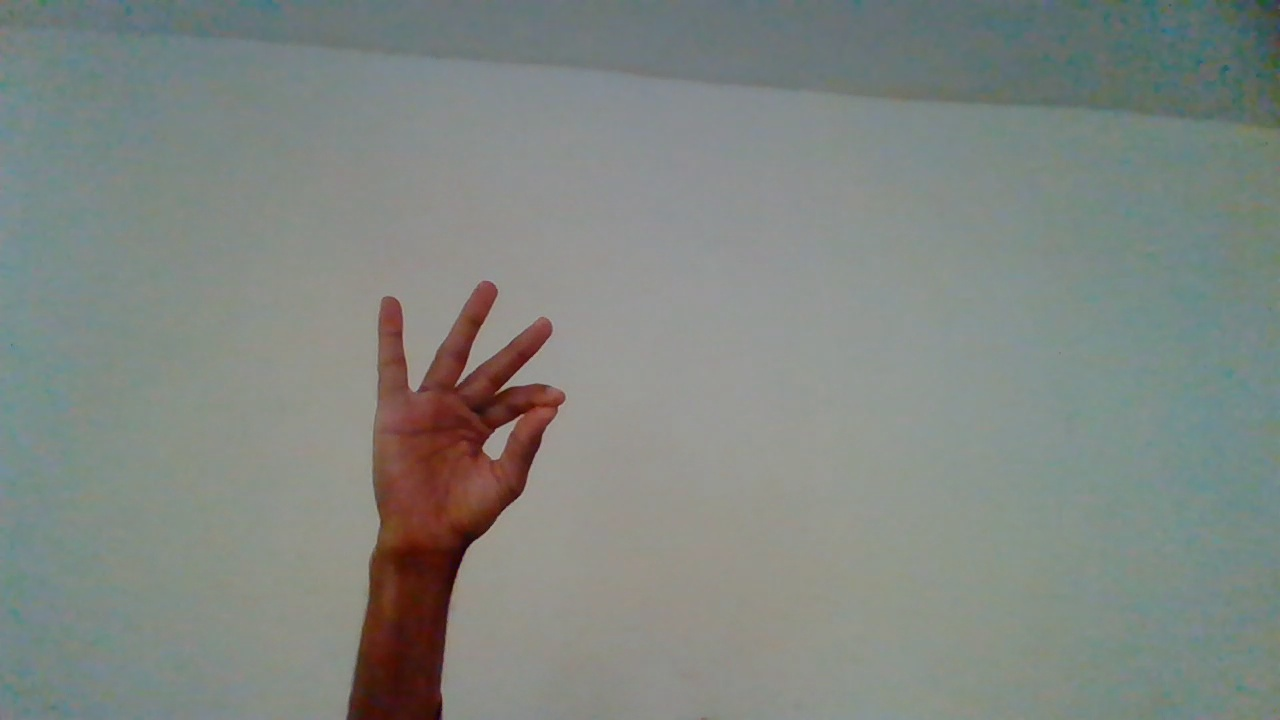le: (375, 284, 570, 669)
